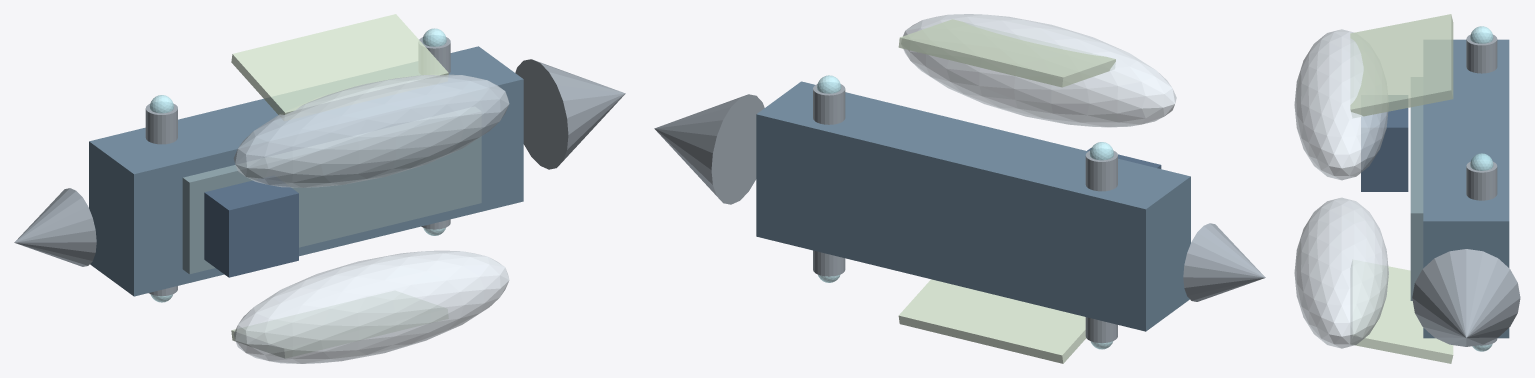
File: SKYSHIP_02_CLOUDLACE_COURIER_cloudlace_courier.glb
The picture shows the model from 3 angles, left to right: view 1: azimuth 30°, elevation 25°; view 2: azimuth 150°, elevation 25°; view 3: azimuth 270°, elevation 25°; orthographic projection. The views are drawn at different scales.
Parts seen in each view (by area): view 1: aetherwood_hull, upper_deck, left_aether_cell, right_aether_cell, right_lift_sail, command_cabin, left_lift_sail, forward_ram, stern_finial, right_thruster_-0.52, right_thruster_0.52; view 2: aetherwood_hull, right_aether_cell, left_lift_sail, right_lift_sail, forward_ram, stern_finial, right_thruster_-0.52, right_thruster_0.52, left_thruster_-0.52, left_thruster_0.52; view 3: aetherwood_hull, left_aether_cell, right_aether_cell, right_lift_sail, forward_ram, left_lift_sail, command_cabin, upper_deck, right_thruster_-0.52, right_thruster_0.52, right_thruster_glow_0.52, right_thruster_glow_-0.52.
Part boxes in pixels (x1,y1,x2,y2): aetherwood_hull: (89,46,523,296); upper_deck: (182,107,481,274); left_aether_cell: (233,250,509,363); right_aether_cell: (233,74,509,187); right_lift_sail: (231,14,448,120); command_cabin: (204,175,298,277); left_lift_sail: (231,291,448,358); forward_ram: (515,59,625,169); stern_finial: (14,188,96,266); right_thruster_-0.52: (145,102,177,144); right_thruster_0.52: (419,35,450,74); aetherwood_hull: (756,81,1190,331); right_aether_cell: (903,14,1176,127); left_lift_sail: (898,279,1085,363); right_lift_sail: (898,19,1115,87); forward_ram: (654,94,764,204); stern_finial: (1183,223,1265,301); right_thruster_-0.52: (1085,149,1117,191); right_thruster_0.52: (813,82,845,124); left_thruster_-0.52: (1085,317,1117,342); left_thruster_0.52: (813,250,845,276); aetherwood_hull: (1423,39,1509,338); left_aether_cell: (1294,197,1388,348); right_aether_cell: (1294,29,1388,180); right_lift_sail: (1350,14,1453,117); forward_ram: (1412,249,1520,346); left_lift_sail: (1350,260,1453,363); command_cabin: (1361,95,1408,191); upper_deck: (1410,77,1423,300); right_thruster_-0.52: (1466,33,1497,73); right_thruster_0.52: (1466,160,1497,200); right_thruster_glow_0.52: (1470,153,1493,170); right_thruster_glow_-0.52: (1470,26,1493,43).
Bounding box in the file's own units: 2.36 × 1.05 × 0.789.
